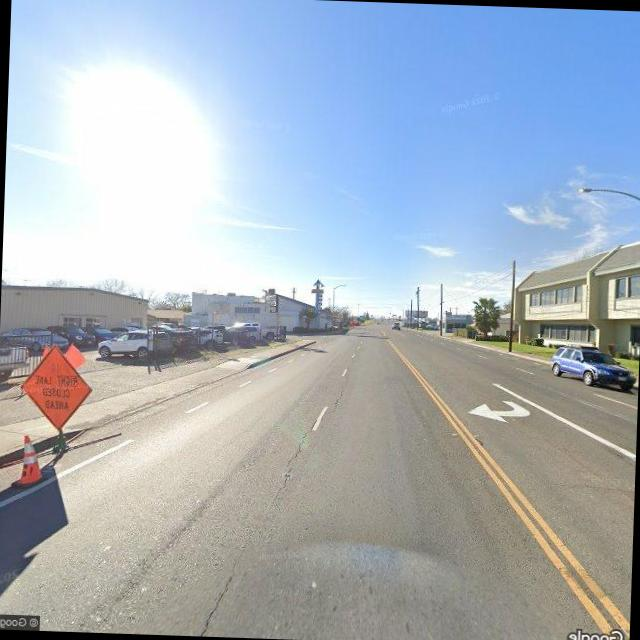pothole: (167, 548, 248, 636), (274, 422, 314, 506)
